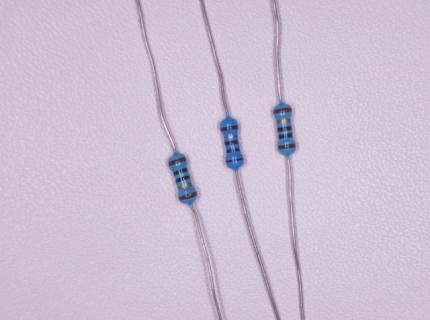Black band: (173, 167, 188, 176), (175, 175, 191, 183), (277, 126, 292, 132), (278, 133, 293, 139), (225, 140, 239, 146), (226, 148, 241, 153)
Brown band: (168, 156, 187, 167), (178, 191, 198, 201), (220, 125, 239, 132), (278, 143, 296, 150), (273, 108, 292, 114), (226, 158, 244, 163)
Gold band: (177, 182, 193, 190), (277, 118, 291, 124), (224, 135, 238, 139)
